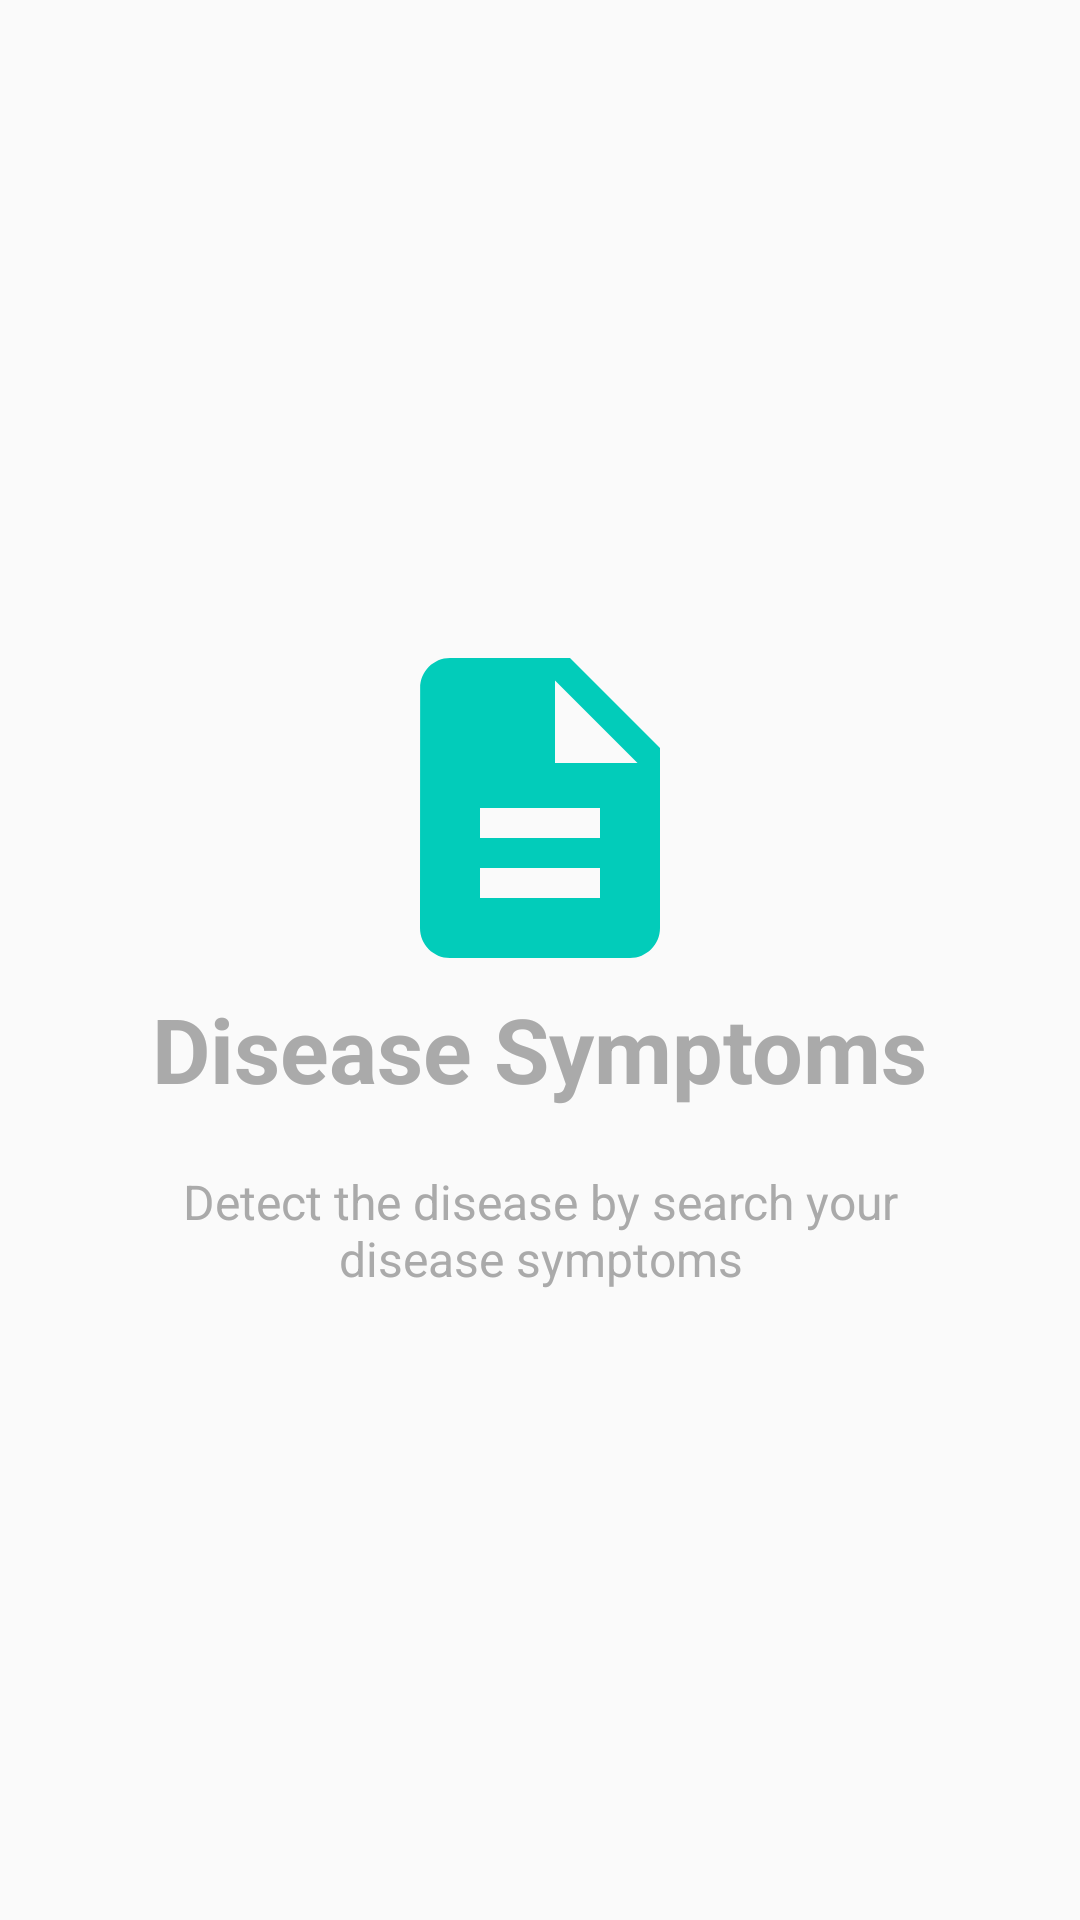

Icon click points for this 1080x1920 phone screenshot, format (x=x, y=y):
description cyan: (x=540, y=808)
